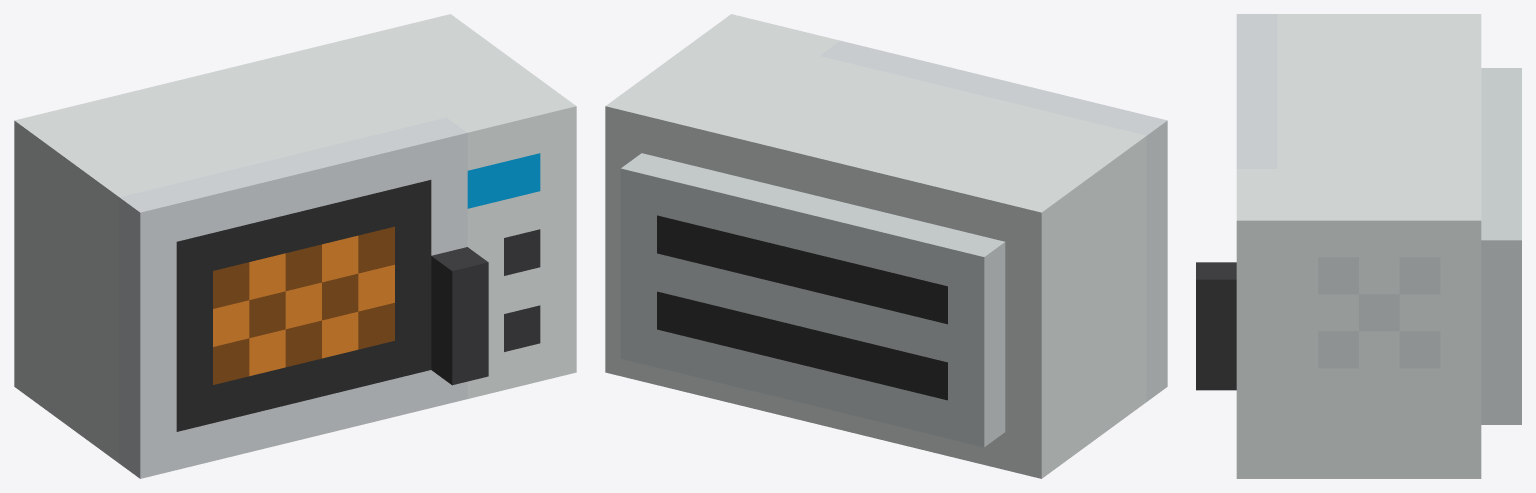
The model's file is MicroWave.obj.
The picture shows the model from 3 angles, left to right: view 1: azimuth 30°, elevation 25°; view 2: azimuth 150°, elevation 25°; view 3: azimuth 270°, elevation 25°; orthographic projection. The views are drawn at different scales.
Bounding box in the file's own units: 1.2 × 0.7 × 0.8.
